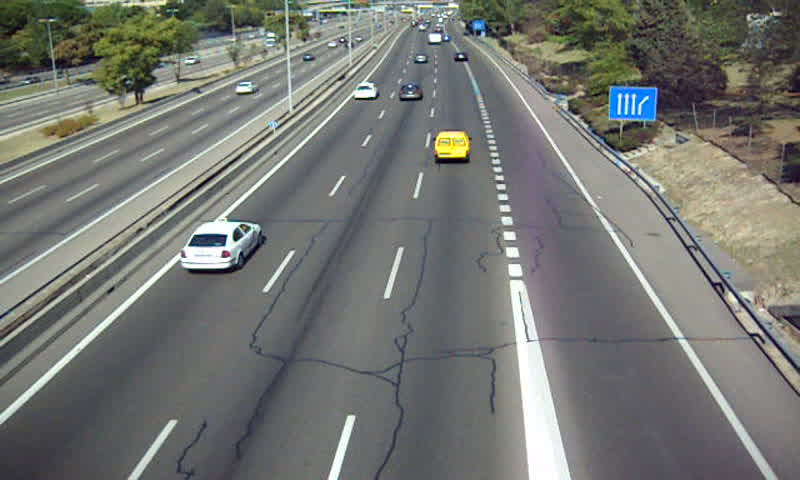car: (180, 221, 260, 271), (352, 82, 378, 100), (399, 83, 423, 102), (414, 52, 428, 66), (454, 50, 469, 63)
van: (434, 131, 470, 164)
